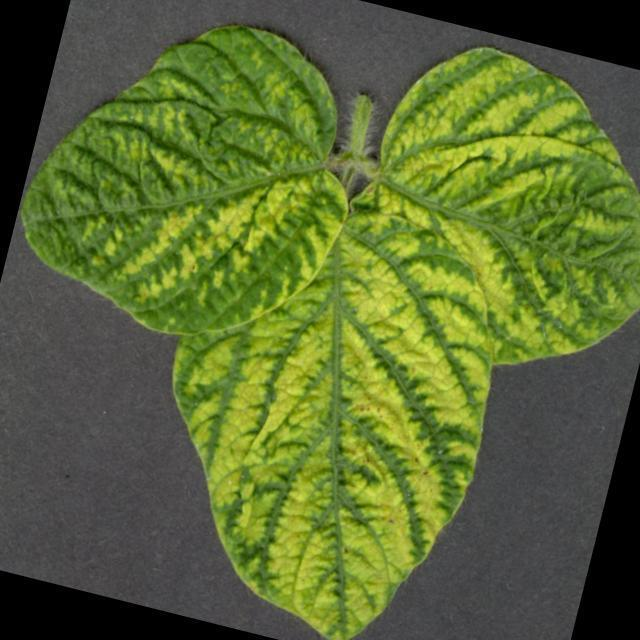Mosaic Virus: (128, 178, 530, 640), (12, 0, 356, 330), (341, 22, 640, 390)
